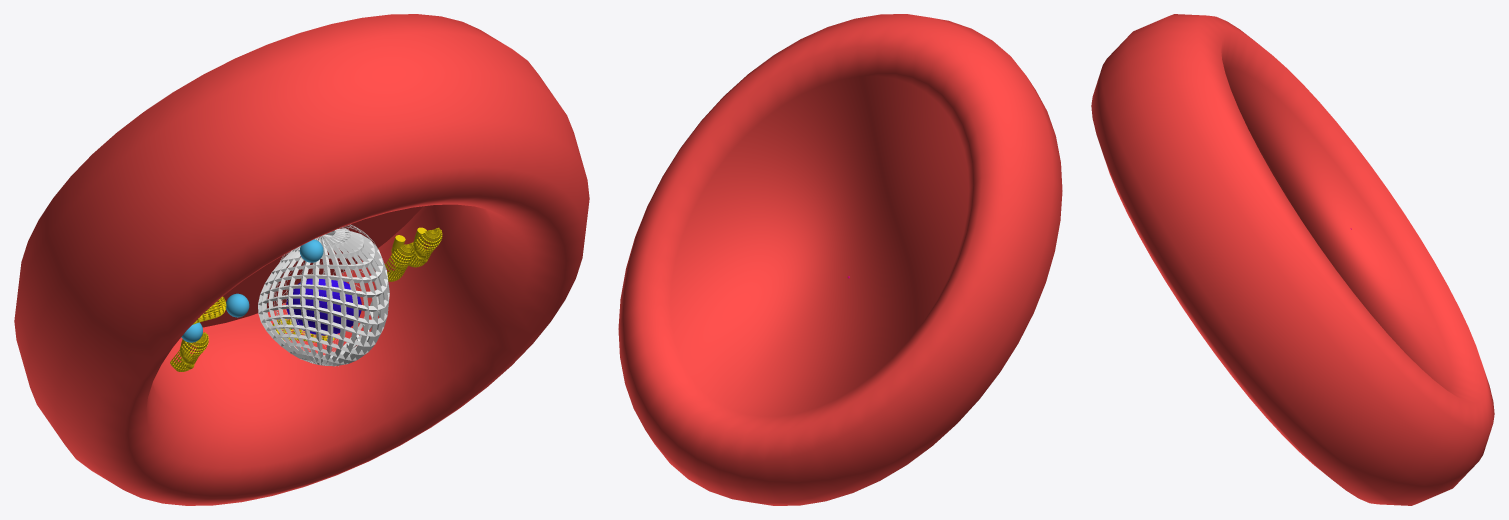
Rendered from redbloodcell3.fbx.
3 renders of one model, left to right at view 1: azimuth 30°, elevation 25°; view 2: azimuth 150°, elevation 25°; view 3: azimuth 270°, elevation 25°, orthographic. The views are drawn at different scales.
Parts seen in each view (by area): view 1: Torus, Sphere.004, Sphere, Sphere.006, Sphere.005, Sphere.007; view 2: Torus; view 3: Torus.
Part boxes in pixels (x1=…): Torus: x1=14, y1=14, x2=589, y2=505; Sphere.004: x1=258, y1=228, x2=389, y2=366; Sphere: x1=286, y1=278, x2=361, y2=335; Sphere.006: x1=404, y1=227, x2=442, y2=267; Sphere.005: x1=385, y1=242, x2=416, y2=281; Sphere.007: x1=170, y1=332, x2=208, y2=371; Torus: x1=618, y1=14, x2=1062, y2=505; Torus: x1=1091, y1=14, x2=1494, y2=505.
Bounding box in the file's own units: 1945 × 2040 × 1747.
